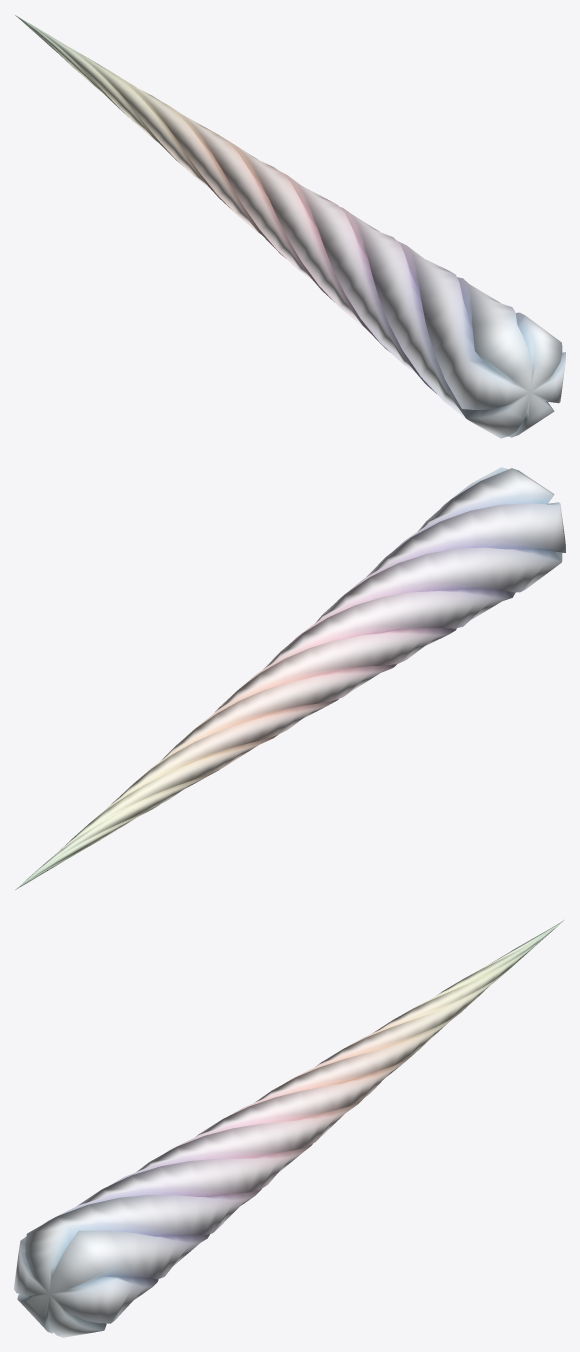
The model's file is unicornhorn.fbx.
3 renders of one model, top to bottom at view 1: azimuth 30°, elevation 25°; view 2: azimuth 150°, elevation 25°; view 3: azimuth 330°, elevation 25°, orthographic.
Visible parts, largest first — view 1: Unicorn Horn; view 2: Unicorn Horn; view 3: Unicorn Horn.
Part boxes in pixels (x1,y1,x2,y2): Unicorn Horn: (15,15,565,438); Unicorn Horn: (15,467,565,889); Unicorn Horn: (14,920,564,1337).
Bounding box in the file's own units: 26.11 × 26.96 × 224.
